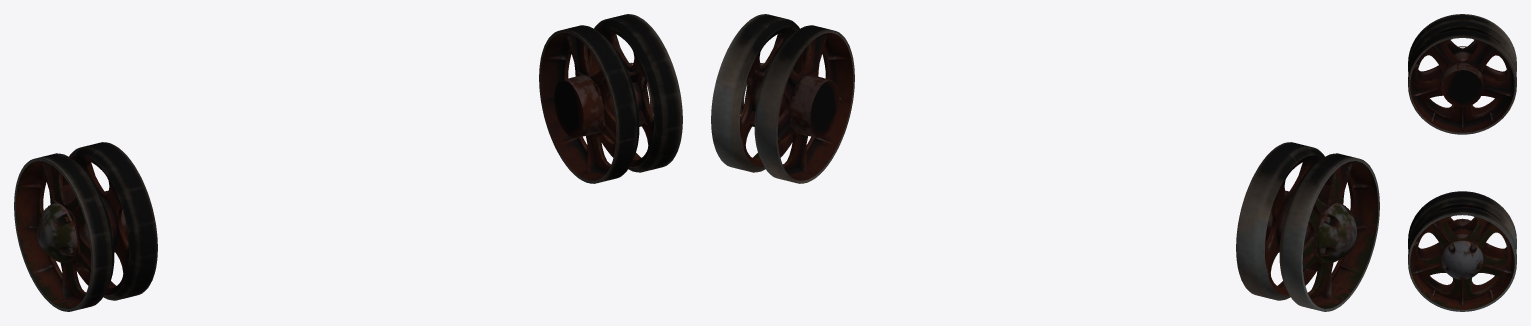
File: big_wheels_1.gltf
The picture shows the model from 3 angles, left to right: view 1: azimuth 30°, elevation 25°; view 2: azimuth 150°, elevation 25°; view 3: azimuth 270°, elevation 25°; orthographic projection. The views are drawn at different scales.
Parts seen in each view (by area): view 1: wheels; view 2: wheels; view 3: wheels.
Boxes of the visible parts, x1,y1,x2,y2 form: wheels: (14,14,682,311); wheels: (711,14,1379,311); wheels: (1408,14,1516,311).
Bounding box in the file's own units: 0.5427 × 0.1202 × 0.12.
1 material, 1 textured.
